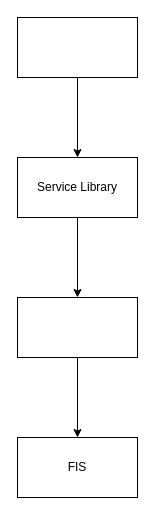
This 155x515 diagram has some shape labels left out. Here are the shapes that lost their labels. From the top down, the centre of each, then its label:
point (77, 47): UI
point (77, 327): Biztalk
